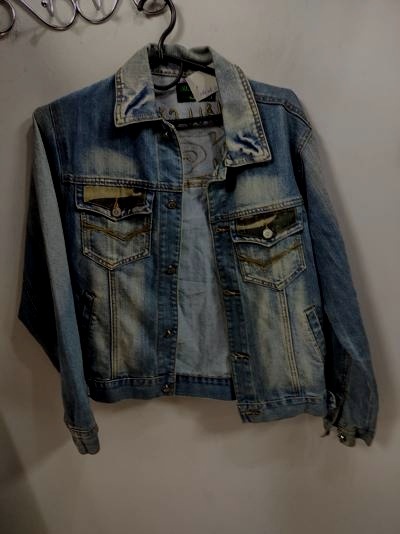Blazer: (22, 80, 391, 458)
